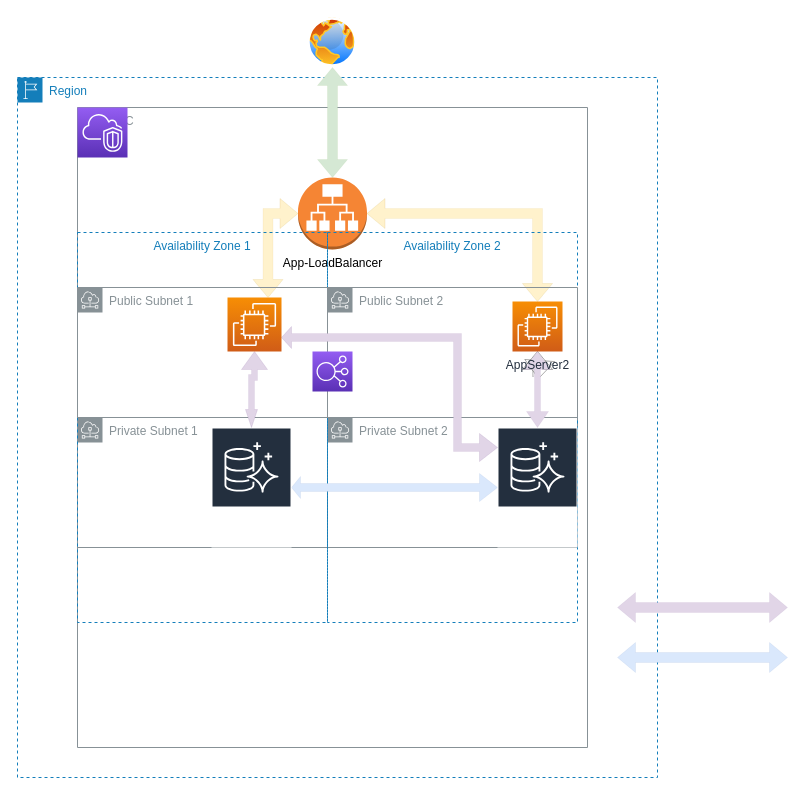
Image size: 805x795. Some labels were removed from this diagram. The shapes that lost their labels are listed below. From the top down, each one's centre as x and y in pixels, then its label:
At [102,132]: "My App VPC on Region East-1".
At [254,324]: "App-server-1".
At [332,371]: "EC2 AutoScaling".
At [251,487]: "Amazon Aurora - Replica READ".
At [537,487]: "Amazon Aurora - Primary".
